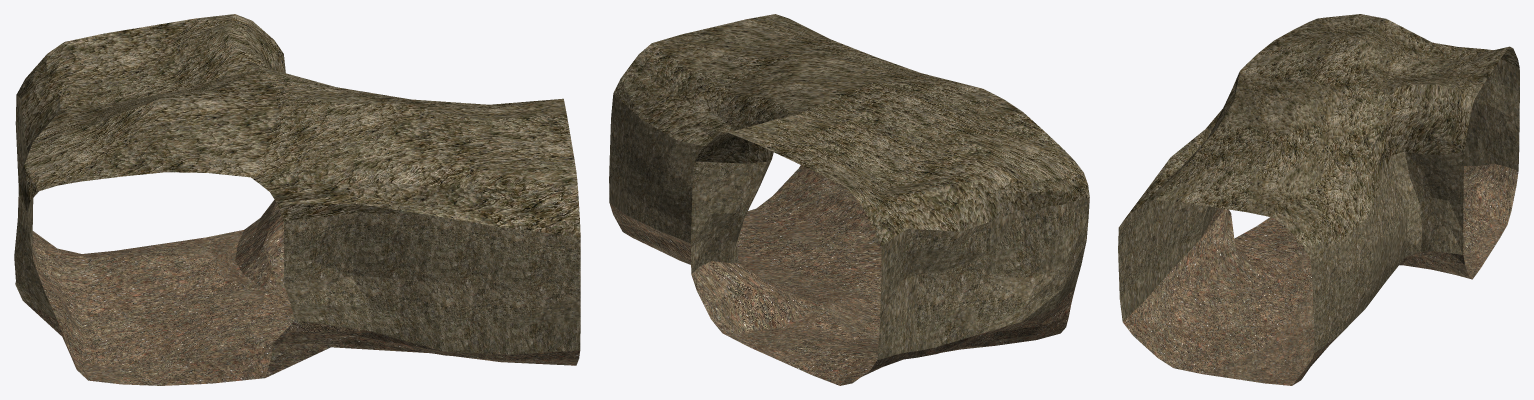
Rendered from thm_tato_fort_tusken_r11_mesh_r11.fbx.
3 renders of one model, left to right at view 1: azimuth 30°, elevation 25°; view 2: azimuth 150°, elevation 25°; view 3: azimuth 270°, elevation 25°, orthographic. The views are drawn at different scales.
Parts seen in each view (by area): view 1: mesh_node; view 2: mesh_node; view 3: mesh_node.
Part boxes in pixels (bbox=[...]): mesh_node: bbox=[14, 14, 580, 385]; mesh_node: bbox=[609, 14, 1089, 385]; mesh_node: bbox=[1118, 14, 1519, 385].
Size of the model in its own units: 20.96 by 9.9 by 17.11.
